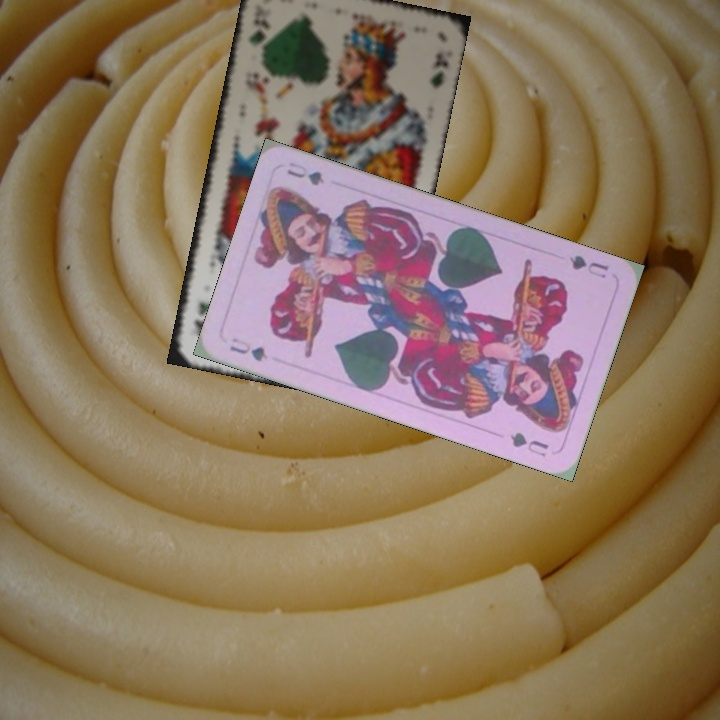GK: (244, 24, 268, 59)
GU: (564, 251, 611, 281), (226, 333, 271, 364)
